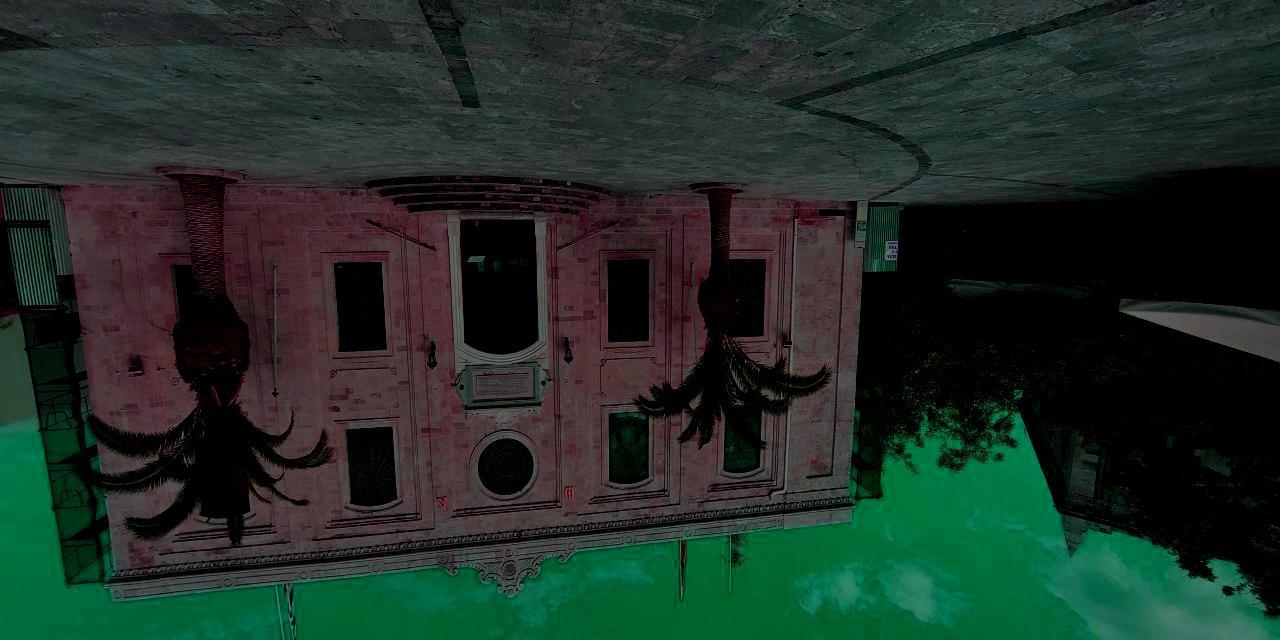Agios Titos: (58, 197, 859, 596)
